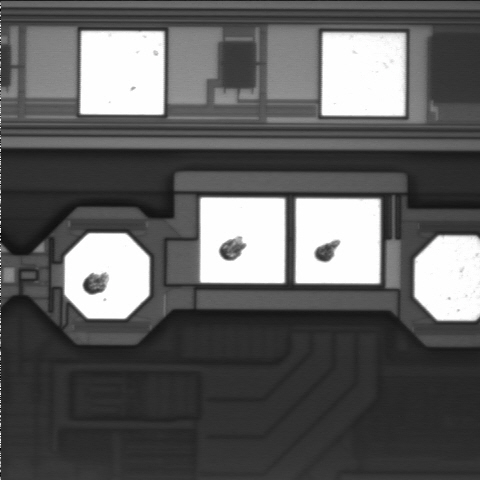pad: (200, 198, 285, 283), (65, 233, 149, 319), (80, 31, 164, 115), (296, 199, 380, 283), (322, 33, 405, 116)
